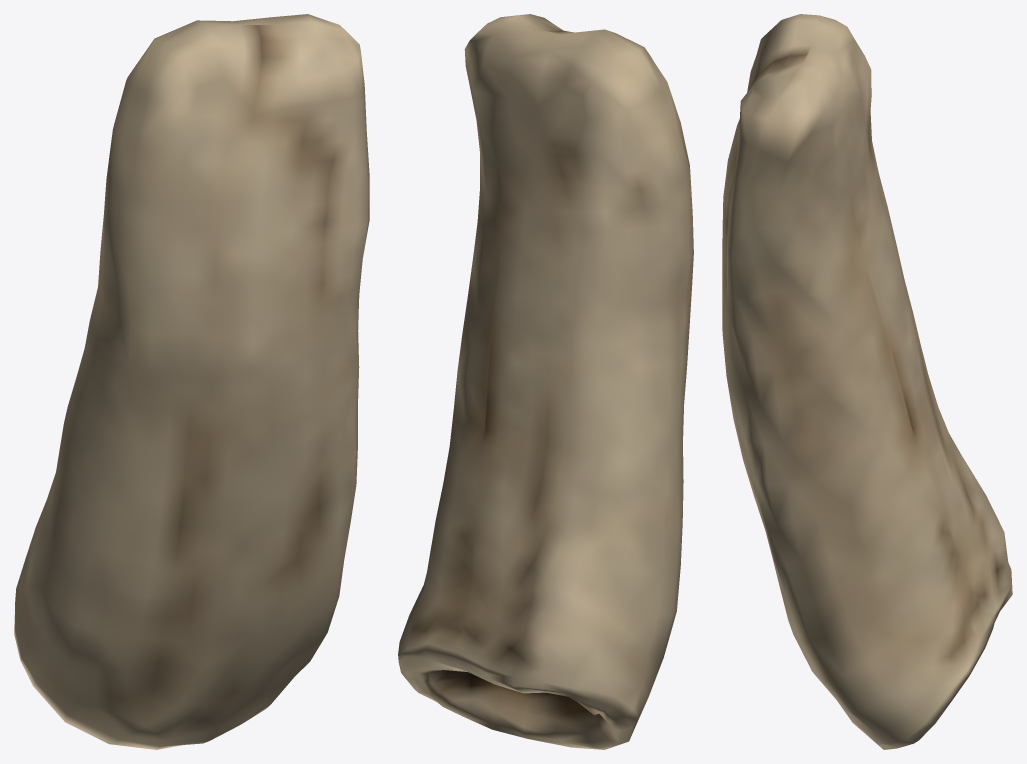
File: Upper_Incisor4.glb
The picture shows the model from 3 angles, left to right: view 1: azimuth 30°, elevation 25°; view 2: azimuth 150°, elevation 25°; view 3: azimuth 270°, elevation 25°; orthographic projection. The views are drawn at different scales.
Visible parts, largest first — view 1: Upper_Incisor4.glb; view 2: Upper_Incisor4.glb; view 3: Upper_Incisor4.glb.
Boxes of the visible parts, <box> form: Upper_Incisor4.glb: <box>14,14,369,749</box>; Upper_Incisor4.glb: <box>398,14,693,749</box>; Upper_Incisor4.glb: <box>722,14,1012,749</box>.
Size of the model in its own units: 0.0127 by 0.0336 by 0.0127.
Materials: 1 (1 with a texture image).
